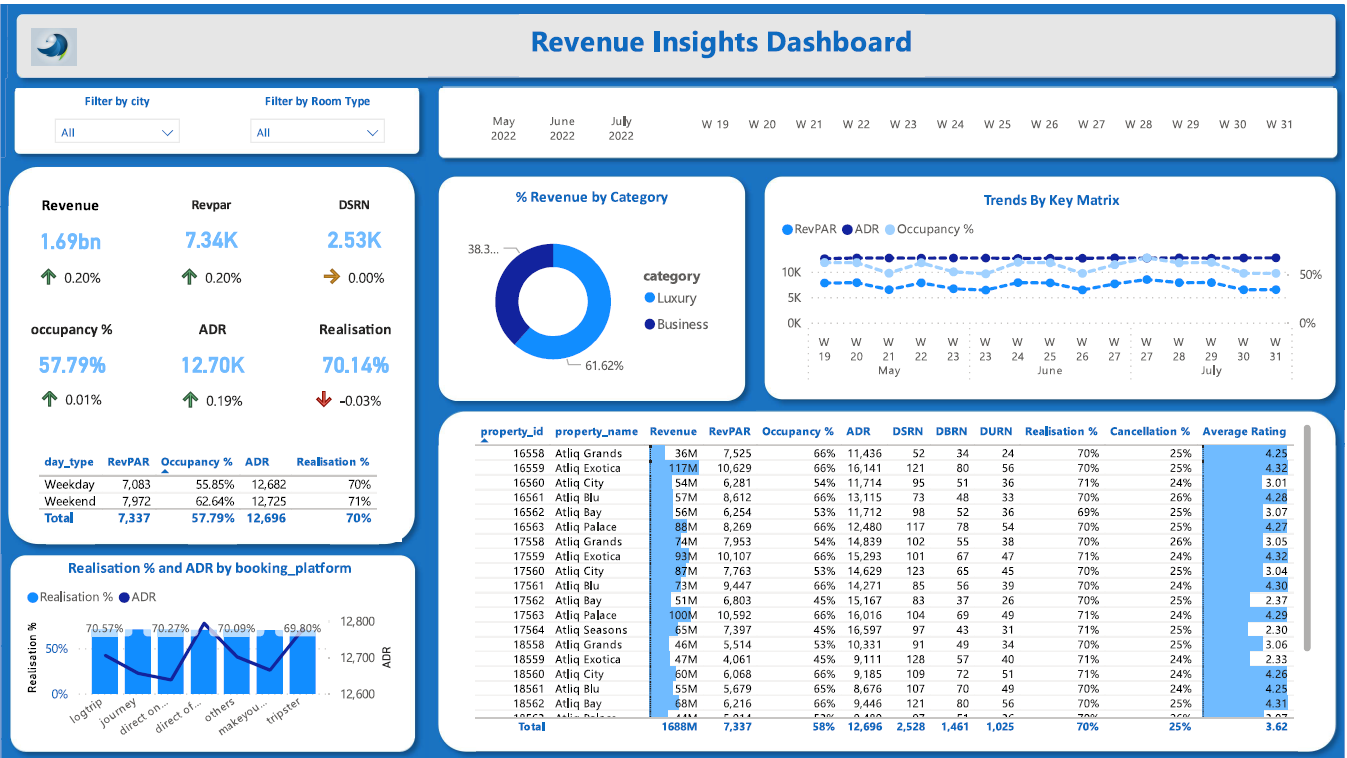

The dashboard page shown, as its layout file describes it:
{"tool":"powerbi","page":{"name":"dashboard","canvas":[1280,720],"ordinal":0},"visuals":[{"type":"shape","box":[6.8,0,1273.2,79],"z":0},{"type":"shape","box":[-1.1,145.7,404.6,377.3],"z":0,"group":"g4"},{"type":"shape","box":[1.2,515.3,403.4,204.7],"z":0,"group":"g11"},{"type":"shape","box":[408.4,69,872.3,85.7],"z":1000,"group":"g4"},{"type":"shape","box":[4.8,70.2,403.4,80.9],"z":1000,"group":"g2"},{"type":"group","id":"g1","title":"Group 7","box":[1.2,515.3,403.4,204.7],"z":1000},{"type":"group","id":"g2","title":"Group 9","box":[4.8,70.2,403.4,80.9],"z":2000},{"type":"group","id":"g3","title":"Group 2","box":[13.3,299.9,110.1,101.9],"z":2000,"group":"g4"},{"type":"shape","box":[408.2,378.4,872.3,341.6],"z":2000,"group":"g8"},{"type":"group","id":"g4","title":"Group 10","box":[-1.1,69,1281.8,453.9],"z":3000},{"type":"slicer","title":"Filter by Month","fields":{"Values":["dim_date.mmm yy"]},"box":[426.1,92.8,215.4,41.7],"z":3000,"group":"g4"},{"type":"shape","box":[717.9,154.7,561.7,229.7],"z":3000,"group":"g6"},{"type":"group","id":"g5","title":"Group 11","box":[15,17.6,702.7,367.8],"z":4000},{"type":"slicer","title":"Filter by Week","fields":{"Values":["dim_date.week no"]},"box":[633.2,86.9,629.6,53.6],"z":4000,"group":"g4"},{"type":"shape","box":[408.2,154.5,309.4,230.9],"z":4000,"group":"g5"},{"type":"group","id":"g6","title":"Group 12","box":[717.9,154.7,561.7,229.7],"z":5000},{"type":"tableEx","fields":{"Values":["dim_hotels.property_id","dim_hotels.property_name","Measure_Table.Revenue","Measure_Table.RevPAR","Measure_Table.Occupancy %","Measure_Table.ADR","Measure_Table.DSRN","Measure_Table.DBRN","Measure_Table.DURN","Measure_Table.Realisation %","Measure_Table.Cancellation %","Measure_Table.Average Rating"]},"box":[446,394.5,806.9,303.5],"z":5000,"group":"g8"},{"type":"tableEx","fields":{"Values":["dim_date.day_type","Measure_Table.RevPAR","Measure_Table.Occupancy %","Measure_Table.ADR","Measure_Table.Realisation %"]},"box":[31,423,351.1,88.1],"z":5000,"group":"g4"},{"type":"slicer","title":"Filter by city","fields":{"Values":["dim_hotels.city"]},"box":[41.7,85,139.2,51.9],"z":6000,"group":"g2"},{"type":"group","id":"g7","title":"Group 1","box":[12.4,182.3,110.1,103.4],"z":6000,"group":"g4"},{"type":"group","id":"g8","title":"Group 13","box":[408.2,378.4,872.3,341.6],"z":6000},{"type":"textbox","box":[493.7,9.7,385.5,59.7],"z":6001},{"type":"slicer","title":"Filter by Room Type","fields":{"Values":["dim_rooms.room_class"]},"box":[227.3,85.5,148.8,50.8],"z":7000,"group":"g2"},{"type":"group","id":"g9","title":"Group 4","box":[146,182.3,110.1,103.2],"z":7000,"group":"g4"},{"type":"image","box":[15,17.6,71.1,44.8],"z":7001,"group":"g5"},{"type":"group","id":"g10","title":"Group 6","box":[281.5,182.3,110.1,103.2],"z":8000,"group":"g4"},{"type":"tableEx","fields":{"Values":["Measure_Table.Realisation WoW change %"]},"box":[288.7,334.2,89.6,68.5],"z":9000,"group":"g4"},{"type":"donutChart","title":"% Revenue by Category","fields":{"Category":["dim_hotels.category"],"Y":["Measure_Table.Revenue"]},"box":[434.7,173.4,256.5,199.8],"z":10000,"group":"g5"},{"type":"tableEx","fields":{"Values":["Measure_Table.ADR WoW change %"]},"box":[162.2,334.2,79.9,68.5],"z":10000,"group":"g4"},{"type":"lineChart","title":"Trends By Key Matrix","fields":{"Category":["dim_date.mmm yy.Variation.Date Hierarchy.Month","dim_date.week no"],"Y":["Measure_Table.RevPAR","Measure_Table.ADR"],"Y2":["Measure_Table.Occupancy %"]},"box":[738.1,176.8,524.8,191.6],"z":11000,"group":"g6"},{"type":"card","title":"ADR","fields":{"Values":["Measure_Table.ADR"]},"box":[146.9,299.9,110.1,68.5],"z":11000,"group":"g4"},{"type":"lineStackedColumnComboChart","fields":{"Category":["fact_bookings.booking_platform"],"Y":["Measure_Table.Realisation %"],"Y2":["Measure_Table.ADR"]},"box":[20,527.8,358.9,179.8],"z":11000,"group":"g11"},{"type":"card","title":"Realisation","fields":{"Values":["Measure_Table.Realisation %"]},"box":[282.5,299.9,110.1,68.5],"z":12000,"group":"g4"},{"type":"group","id":"g11","title":"Group 14","box":[1.2,515.3,403.4,204.7],"z":13006,"group":"g1"},{"type":"tableEx","fields":{"Values":["Measure_Table.Occupancy WoW change %"]},"box":[28.7,333.3,79,68.5],"z":21500,"group":"g3"},{"type":"tableEx","fields":{"Values":["Measure_Table.DSRN WoW change %"]},"box":[296.7,217,79.7,68.5],"z":23000,"group":"g10"},{"type":"tableEx","fields":{"Values":["Measure_Table.Revpar WoW change %"]},"box":[161.2,217,79.7,68.5],"z":23500,"group":"g9"},{"type":"tableEx","fields":{"Values":["Measure_Table.Revenue WoW change %"]},"box":[27.4,217,80.1,68.7],"z":24000,"group":"g7"},{"type":"card","title":"DSRN","fields":{"Values":["Measure_Table.DSRN"]},"box":[281.5,182.3,110.1,68.5],"z":24500,"group":"g10"},{"type":"card","title":"Revenue","fields":{"Values":["Measure_Table.Revenue"]},"box":[12.4,182.3,110.1,68.7],"z":25000,"group":"g7"},{"type":"card","title":"Revpar","fields":{"Values":["Measure_Table.RevPAR"]},"box":[146,182.3,110.1,68.5],"z":25500,"group":"g9"},{"type":"card","title":"occupancy %","fields":{"Values":["Measure_Table.Occupancy %"]},"box":[13.3,299.9,110.1,68.5],"z":26500,"group":"g3"}]}

Visuals, with their boxes in screenshot pixels (x1, y1, x2, y2), scaled from the page's 1280x720 canvas onto the 1347x758 screenshot:
shape: detection(7, 0, 1346, 83)
shape: detection(0, 153, 425, 551)
shape: detection(1, 542, 426, 757)
shape: detection(430, 73, 1346, 163)
shape: detection(5, 74, 430, 159)
"Group 7" group: detection(1, 542, 426, 757)
"Group 9" group: detection(5, 74, 430, 159)
"Group 2" group: detection(14, 316, 130, 423)
shape: detection(430, 398, 1346, 757)
"Group 10" group: detection(0, 73, 1346, 550)
"Filter by Month" slicer: detection(448, 98, 675, 142)
shape: detection(755, 163, 1346, 405)
"Group 11" group: detection(16, 19, 755, 406)
"Filter by Week" slicer: detection(666, 91, 1329, 148)
shape: detection(430, 163, 755, 406)
"Group 12" group: detection(755, 163, 1346, 405)
tableEx - dim_hotels.property_id x dim_hotels.property_name: detection(469, 415, 1318, 735)
tableEx - dim_date.day_type x Measure_Table.RevPAR: detection(33, 445, 402, 538)
"Filter by city" slicer: detection(44, 89, 190, 144)
"Group 1" group: detection(13, 192, 129, 301)
"Group 13" group: detection(430, 398, 1346, 757)
textbox: detection(520, 10, 925, 73)
"Filter by Room Type" slicer: detection(239, 90, 396, 143)
"Group 4" group: detection(154, 192, 270, 301)
image: detection(16, 19, 91, 66)
"Group 6" group: detection(296, 192, 412, 301)
tableEx - Measure_Table.Realisation WoW change %: detection(304, 352, 398, 424)
"% Revenue by Category" donutChart: detection(457, 183, 727, 393)
tableEx - Measure_Table.ADR WoW change %: detection(171, 352, 255, 424)
"Trends By Key Matrix" lineChart: detection(777, 186, 1329, 388)
"ADR" card: detection(155, 316, 270, 388)
lineStackedColumnComboChart - fact_bookings.booking_platform x Measure_Table.Realisation %: detection(21, 556, 399, 745)
"Realisation" card: detection(297, 316, 413, 388)
"Group 14" group: detection(1, 542, 426, 757)
tableEx - Measure_Table.Occupancy WoW change %: detection(30, 351, 113, 423)
tableEx - Measure_Table.DSRN WoW change %: detection(312, 228, 396, 301)
tableEx - Measure_Table.Revpar WoW change %: detection(170, 228, 254, 301)
tableEx - Measure_Table.Revenue WoW change %: detection(29, 228, 113, 301)
"DSRN" card: detection(296, 192, 412, 264)
"Revenue" card: detection(13, 192, 129, 264)
"Revpar" card: detection(154, 192, 270, 264)
"occupancy %" card: detection(14, 316, 130, 388)
